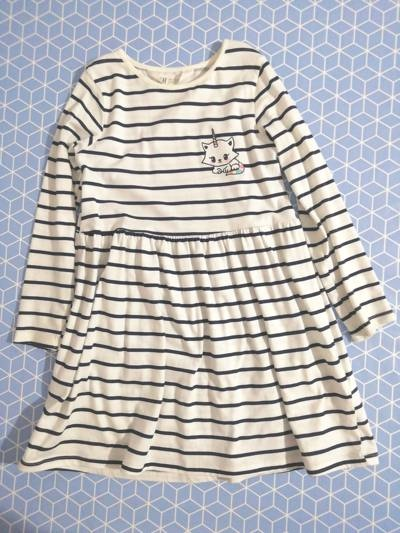Dress: (6, 47, 391, 488)
